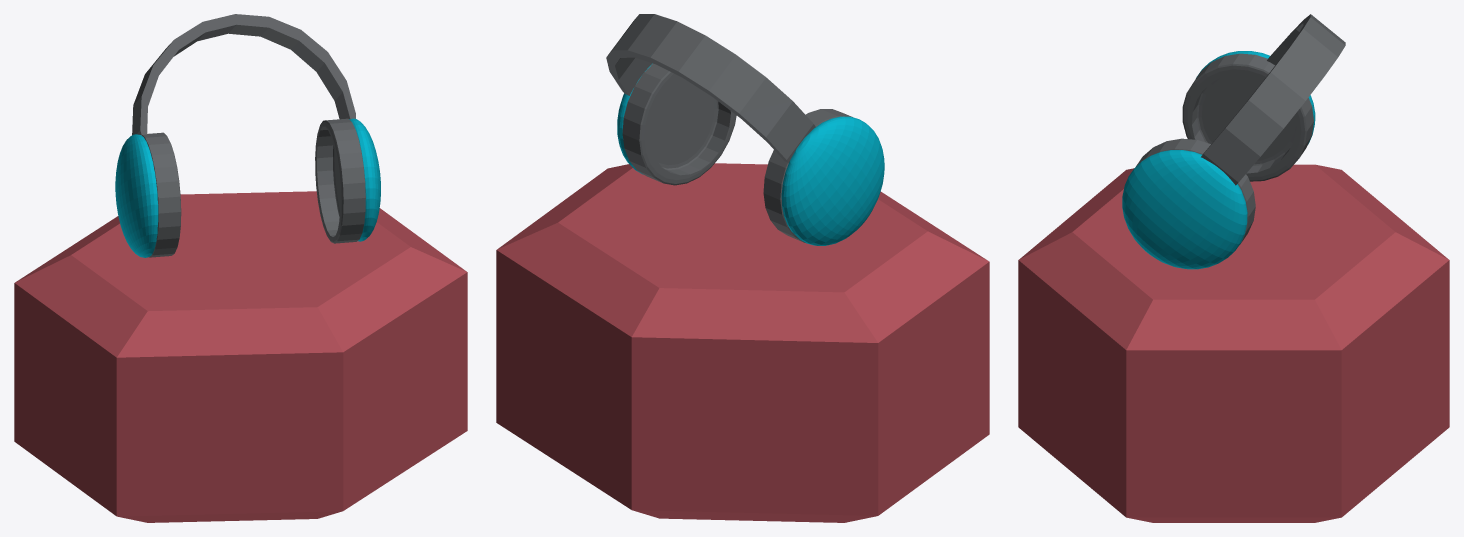
Rendered from audio.glb.
The picture shows the model from 3 angles, left to right: view 1: azimuth 30°, elevation 25°; view 2: azimuth 150°, elevation 25°; view 3: azimuth 270°, elevation 25°; orthographic projection. The views are drawn at different scales.
Visible parts, largest first — view 1: Mesh_Mesh_head_geo.001_lambert2SG.001; view 2: Mesh_Mesh_head_geo.001_lambert2SG.001; view 3: Mesh_Mesh_head_geo.001_lambert2SG.001.
Part boxes in pixels (left/top/right/bottom): Mesh_Mesh_head_geo.001_lambert2SG.001: left=14, top=14, right=467, bottom=522; Mesh_Mesh_head_geo.001_lambert2SG.001: left=496, top=14, right=989, bottom=522; Mesh_Mesh_head_geo.001_lambert2SG.001: left=1018, top=14, right=1449, bottom=522.
Size of the model in its own units: 34.66 by 39.48 by 35.
